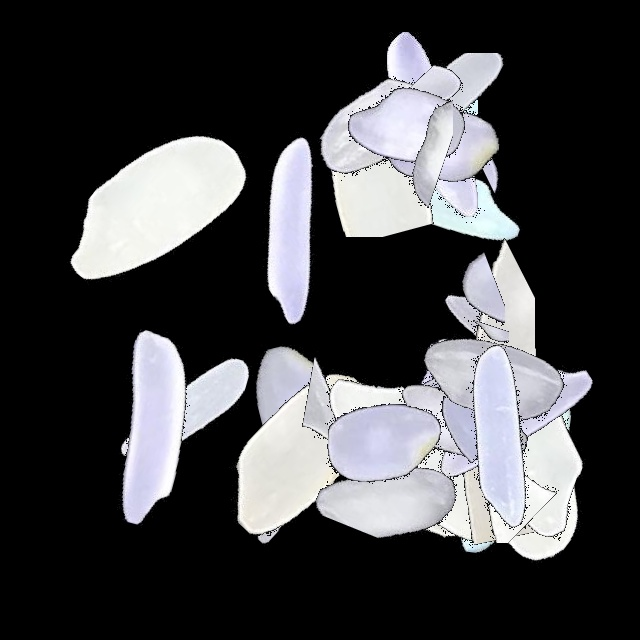Broken: (246, 67, 496, 237), (340, 346, 590, 510), (276, 376, 526, 540), (424, 333, 581, 583), (365, 53, 615, 200), (343, 40, 478, 290), (388, 261, 523, 511), (404, 258, 536, 508), (361, 374, 611, 505), (386, 273, 516, 523), (380, 353, 630, 481), (407, 190, 535, 440), (336, 0, 453, 250), (242, 330, 492, 446), (288, 95, 538, 200), (400, 191, 505, 441), (466, 0, 564, 250), (392, 0, 489, 250), (363, 449, 613, 543), (230, 124, 480, 215), (422, 238, 509, 488), (372, 439, 622, 516), (494, 352, 570, 602)
Full: (173, 281, 423, 531), (305, 67, 555, 317), (157, 345, 407, 595), (349, 305, 599, 555), (390, 345, 640, 595), (173, 327, 423, 577), (61, 285, 311, 535), (353, 300, 603, 550), (306, 0, 556, 250), (313, 344, 563, 594), (347, 354, 597, 604), (387, 340, 637, 590), (256, 0, 506, 250), (293, 329, 543, 579), (367, 251, 617, 501), (334, 276, 584, 526), (172, 103, 422, 353), (390, 311, 640, 561), (26, 303, 276, 553), (390, 295, 640, 545), (317, 21, 567, 271), (335, 299, 585, 549), (367, 252, 617, 502), (280, 0, 530, 250), (378, 313, 628, 563), (260, 319, 510, 569), (26, 85, 276, 335)
